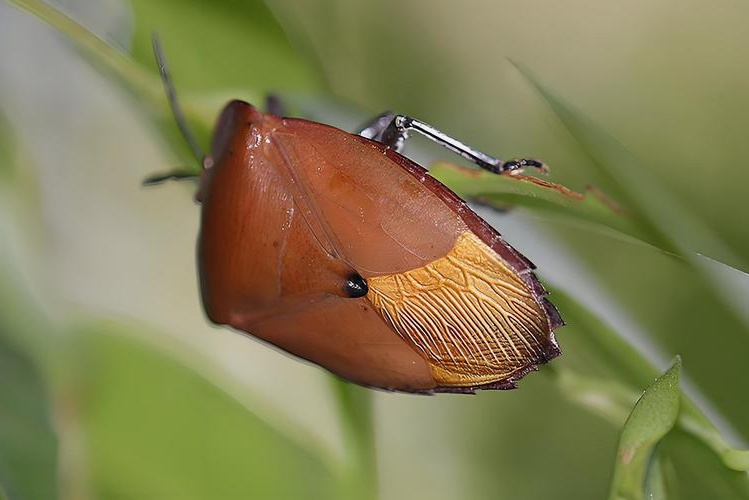Stink_Bug: (203, 103, 531, 366)
